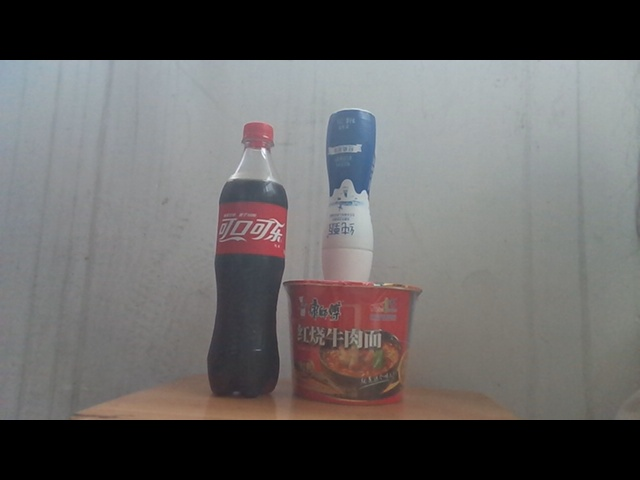cola: (208, 121, 291, 397)
kangshifu: (282, 279, 424, 403)
yogurt: (324, 108, 376, 282)
